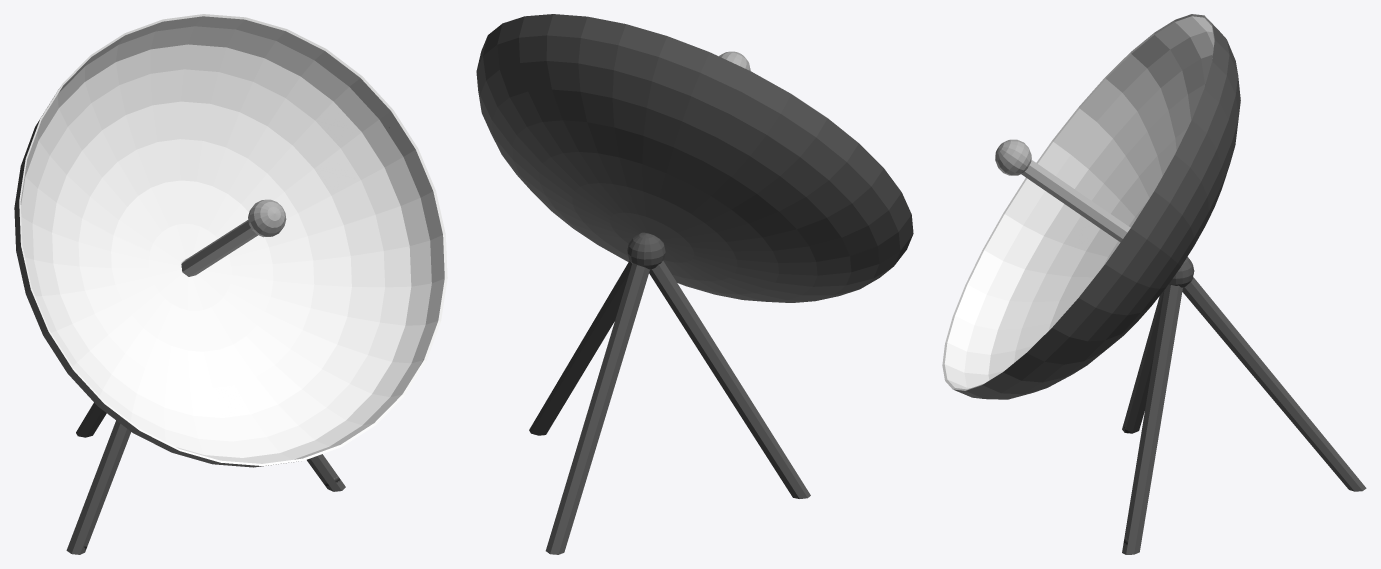
The model's file is Receiver2.fbx.
The picture shows the model from 3 angles, left to right: view 1: azimuth 30°, elevation 25°; view 2: azimuth 150°, elevation 25°; view 3: azimuth 270°, elevation 25°; orthographic projection. The views are drawn at different scales.
Parts seen in each view (by area): view 1: Plane; view 2: Plane; view 3: Plane.
Part boxes in pixels (box(x1,y1,x2,y2)): Plane: box(14, 14, 447, 554); Plane: box(476, 14, 913, 554); Plane: box(942, 14, 1366, 554).
Bounding box in the file's own units: 97.55 × 108 × 91.73.
